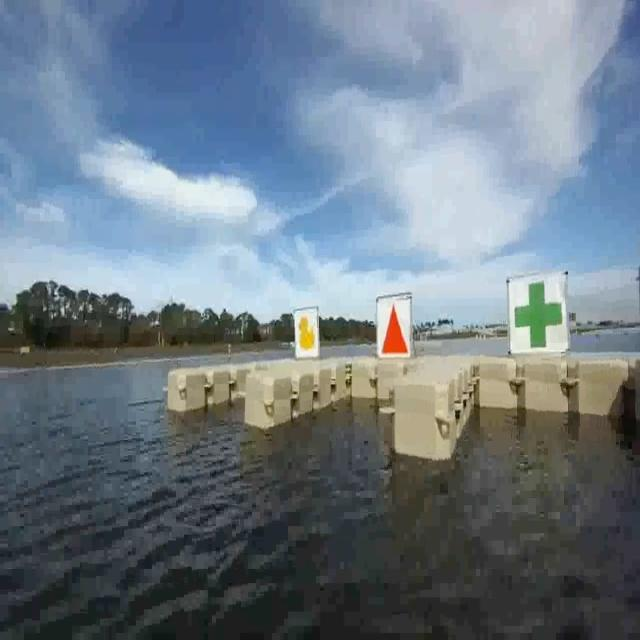blue-cross: (510, 271, 566, 356)
red-dot: (378, 301, 412, 364)
yellow-duck: (298, 314, 317, 352)
